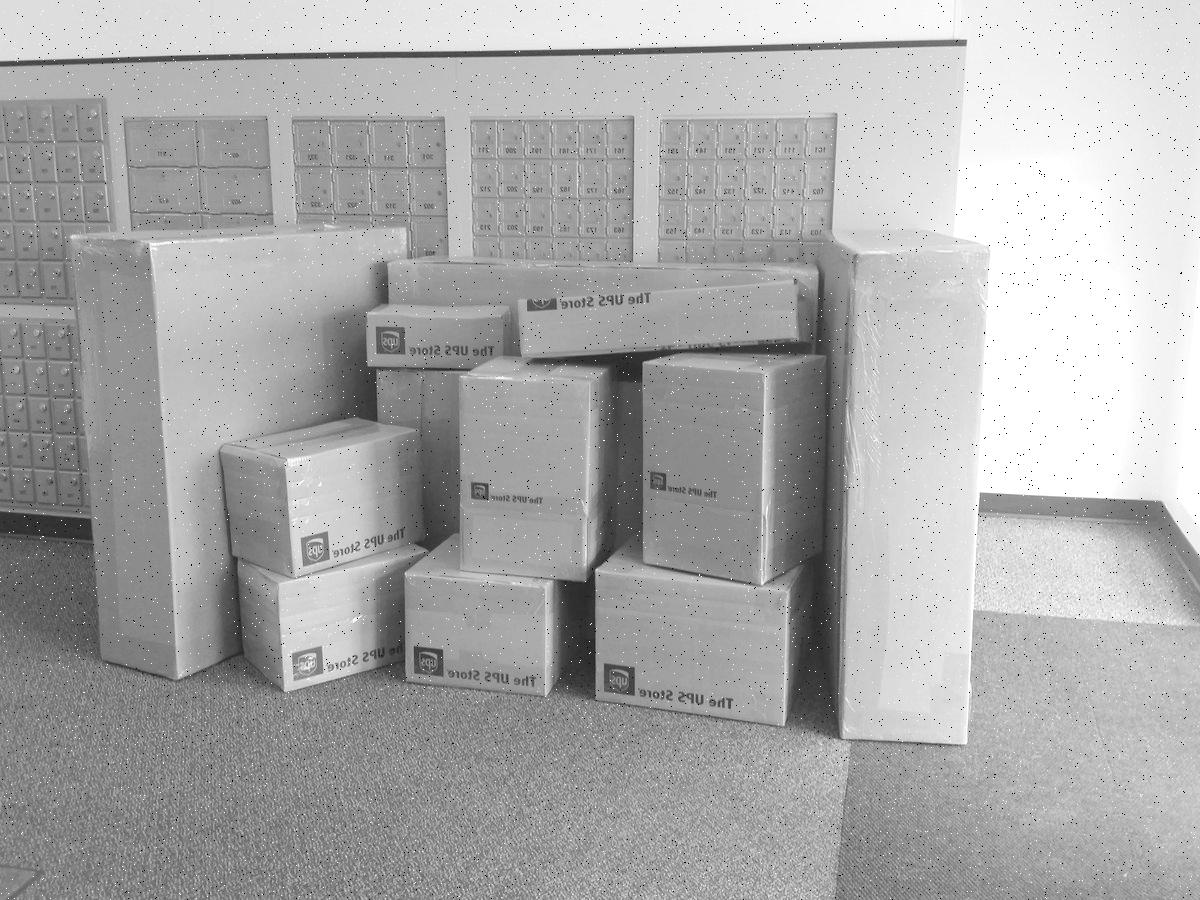Box: (71, 217, 411, 682), (819, 221, 995, 749), (640, 345, 830, 585), (595, 530, 815, 724), (389, 258, 818, 353), (461, 343, 619, 588), (219, 407, 429, 574), (239, 546, 427, 691), (403, 526, 565, 693), (518, 281, 797, 359), (366, 303, 510, 369)
